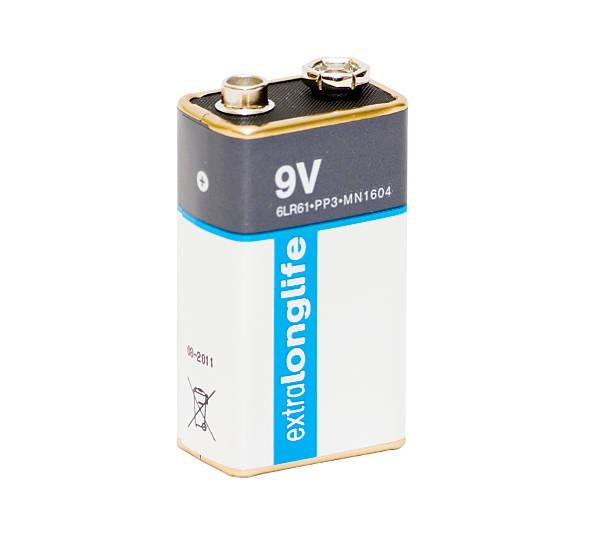9V Battery: (174, 54, 410, 481)
